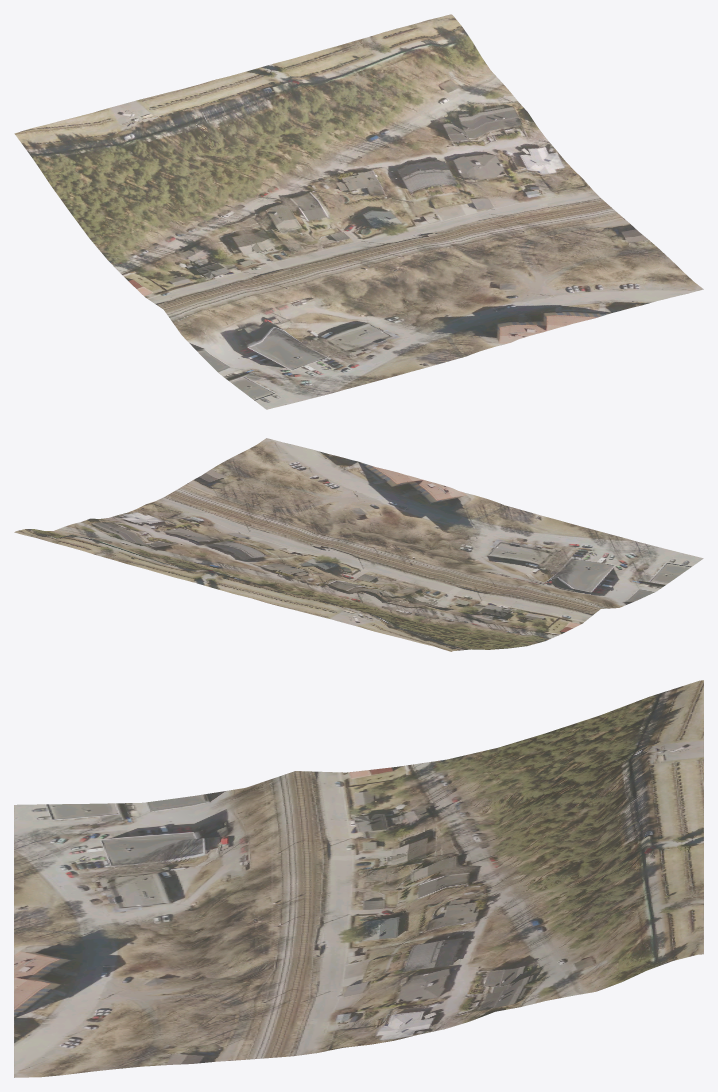
Rendered from CM_Terrain_24489025_6820204.fbx.
3 views of the same model, one above another, from view 1: azimuth 30°, elevation 25°; view 2: azimuth 150°, elevation 25°; view 3: azimuth 270°, elevation 25° (orthographic). The views are drawn at different scales.
Parts seen in each view (by area): view 1: CM_Terrain_24489025_6820204_LOD0; view 2: CM_Terrain_24489025_6820204_LOD0; view 3: CM_Terrain_24489025_6820204_LOD0.
Part boxes in pixels (x1,y1,x2,y2): CM_Terrain_24489025_6820204_LOD0: [14, 14, 703, 409]; CM_Terrain_24489025_6820204_LOD0: [14, 438, 703, 651]; CM_Terrain_24489025_6820204_LOD0: [14, 680, 703, 1077].
Size of what is drawn, in the model's own units: 205 by 46.55 by 205.
